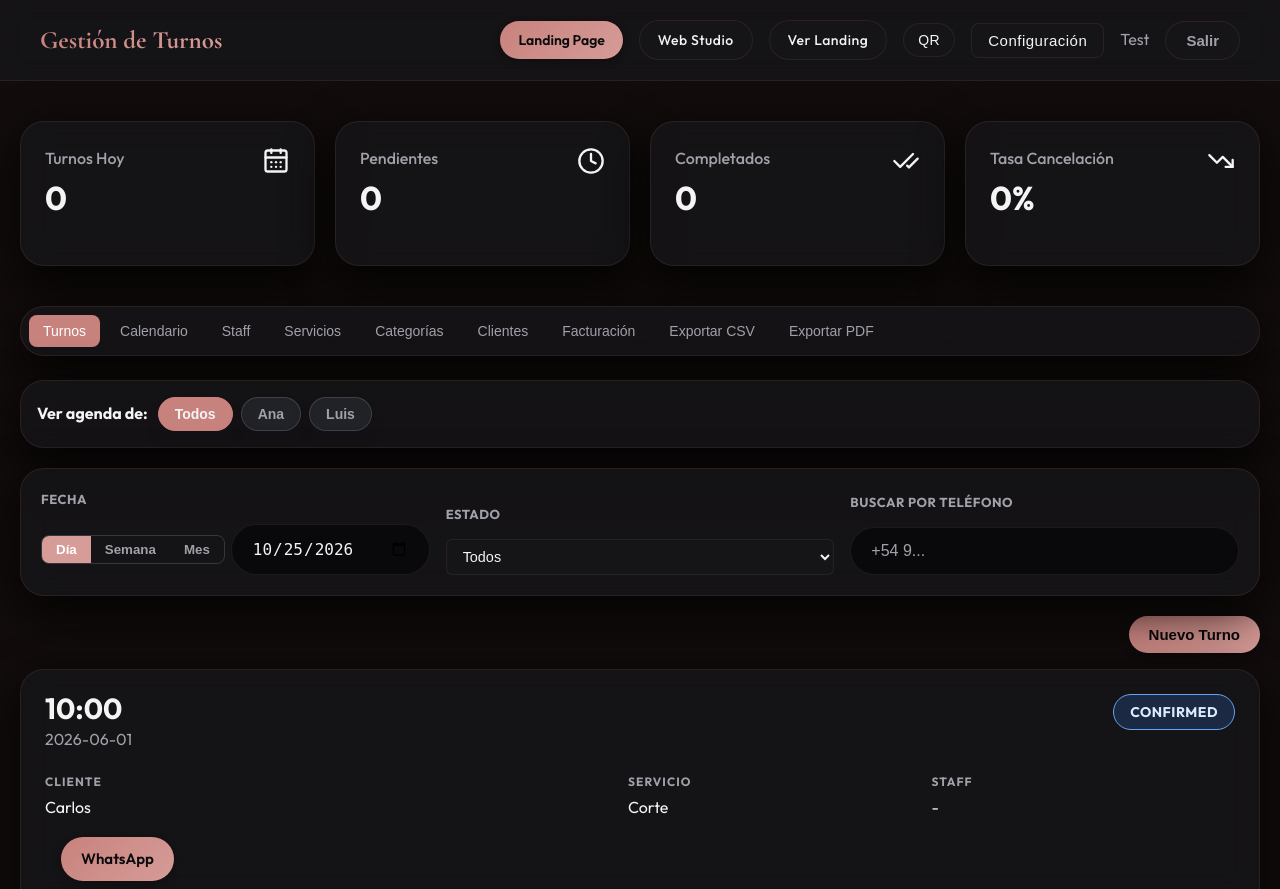
Test case: StaffDashboard › opens new appointment modal
This screenshot has width=1280, height=889.
Expected: the text "Carlos" is shown, [45,797,91,817]
Click the button "Nuevo Turno".
click(1194, 634)  # box [1129,616,1260,653]
(page scrolled)
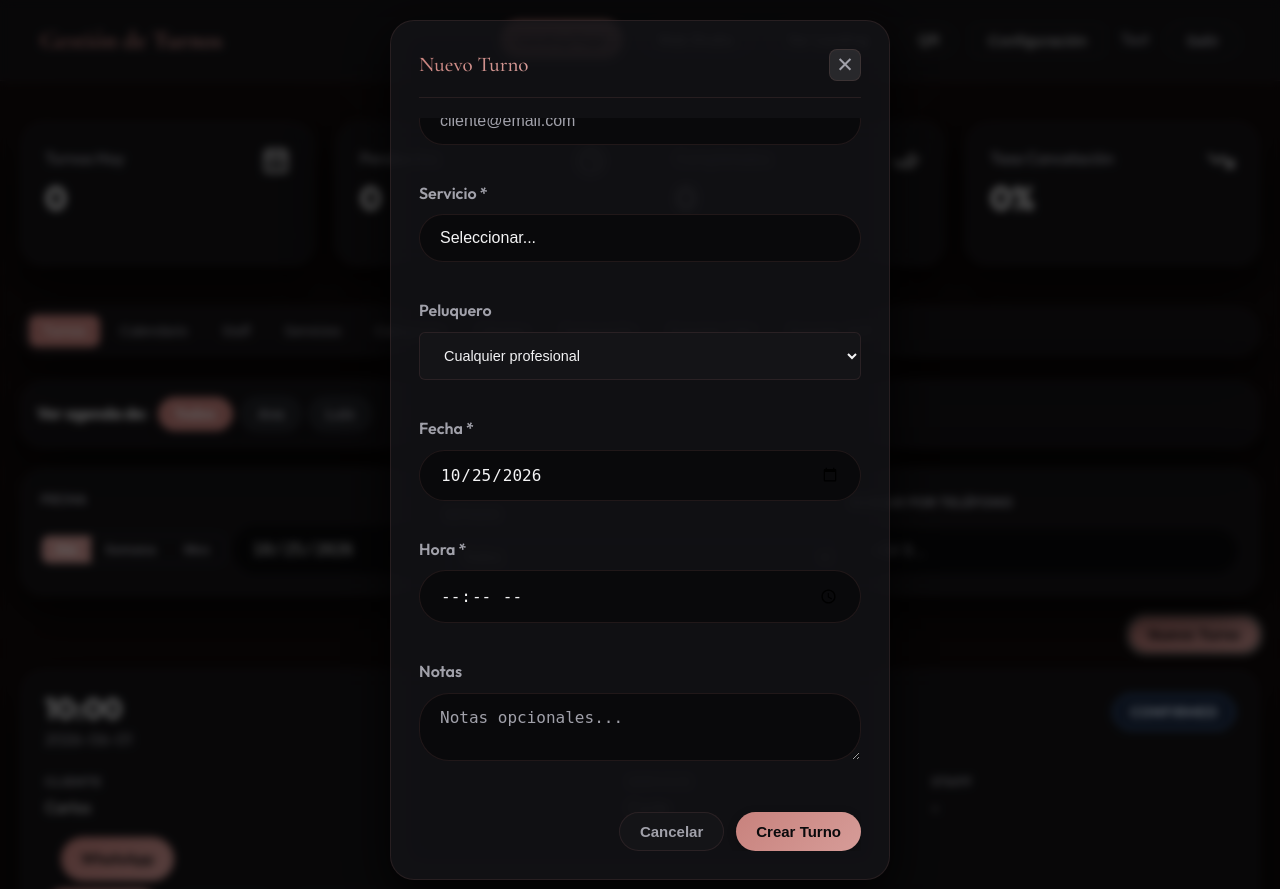
Expected: the button "Crear Turno" is shown, [736,812,861,851]
